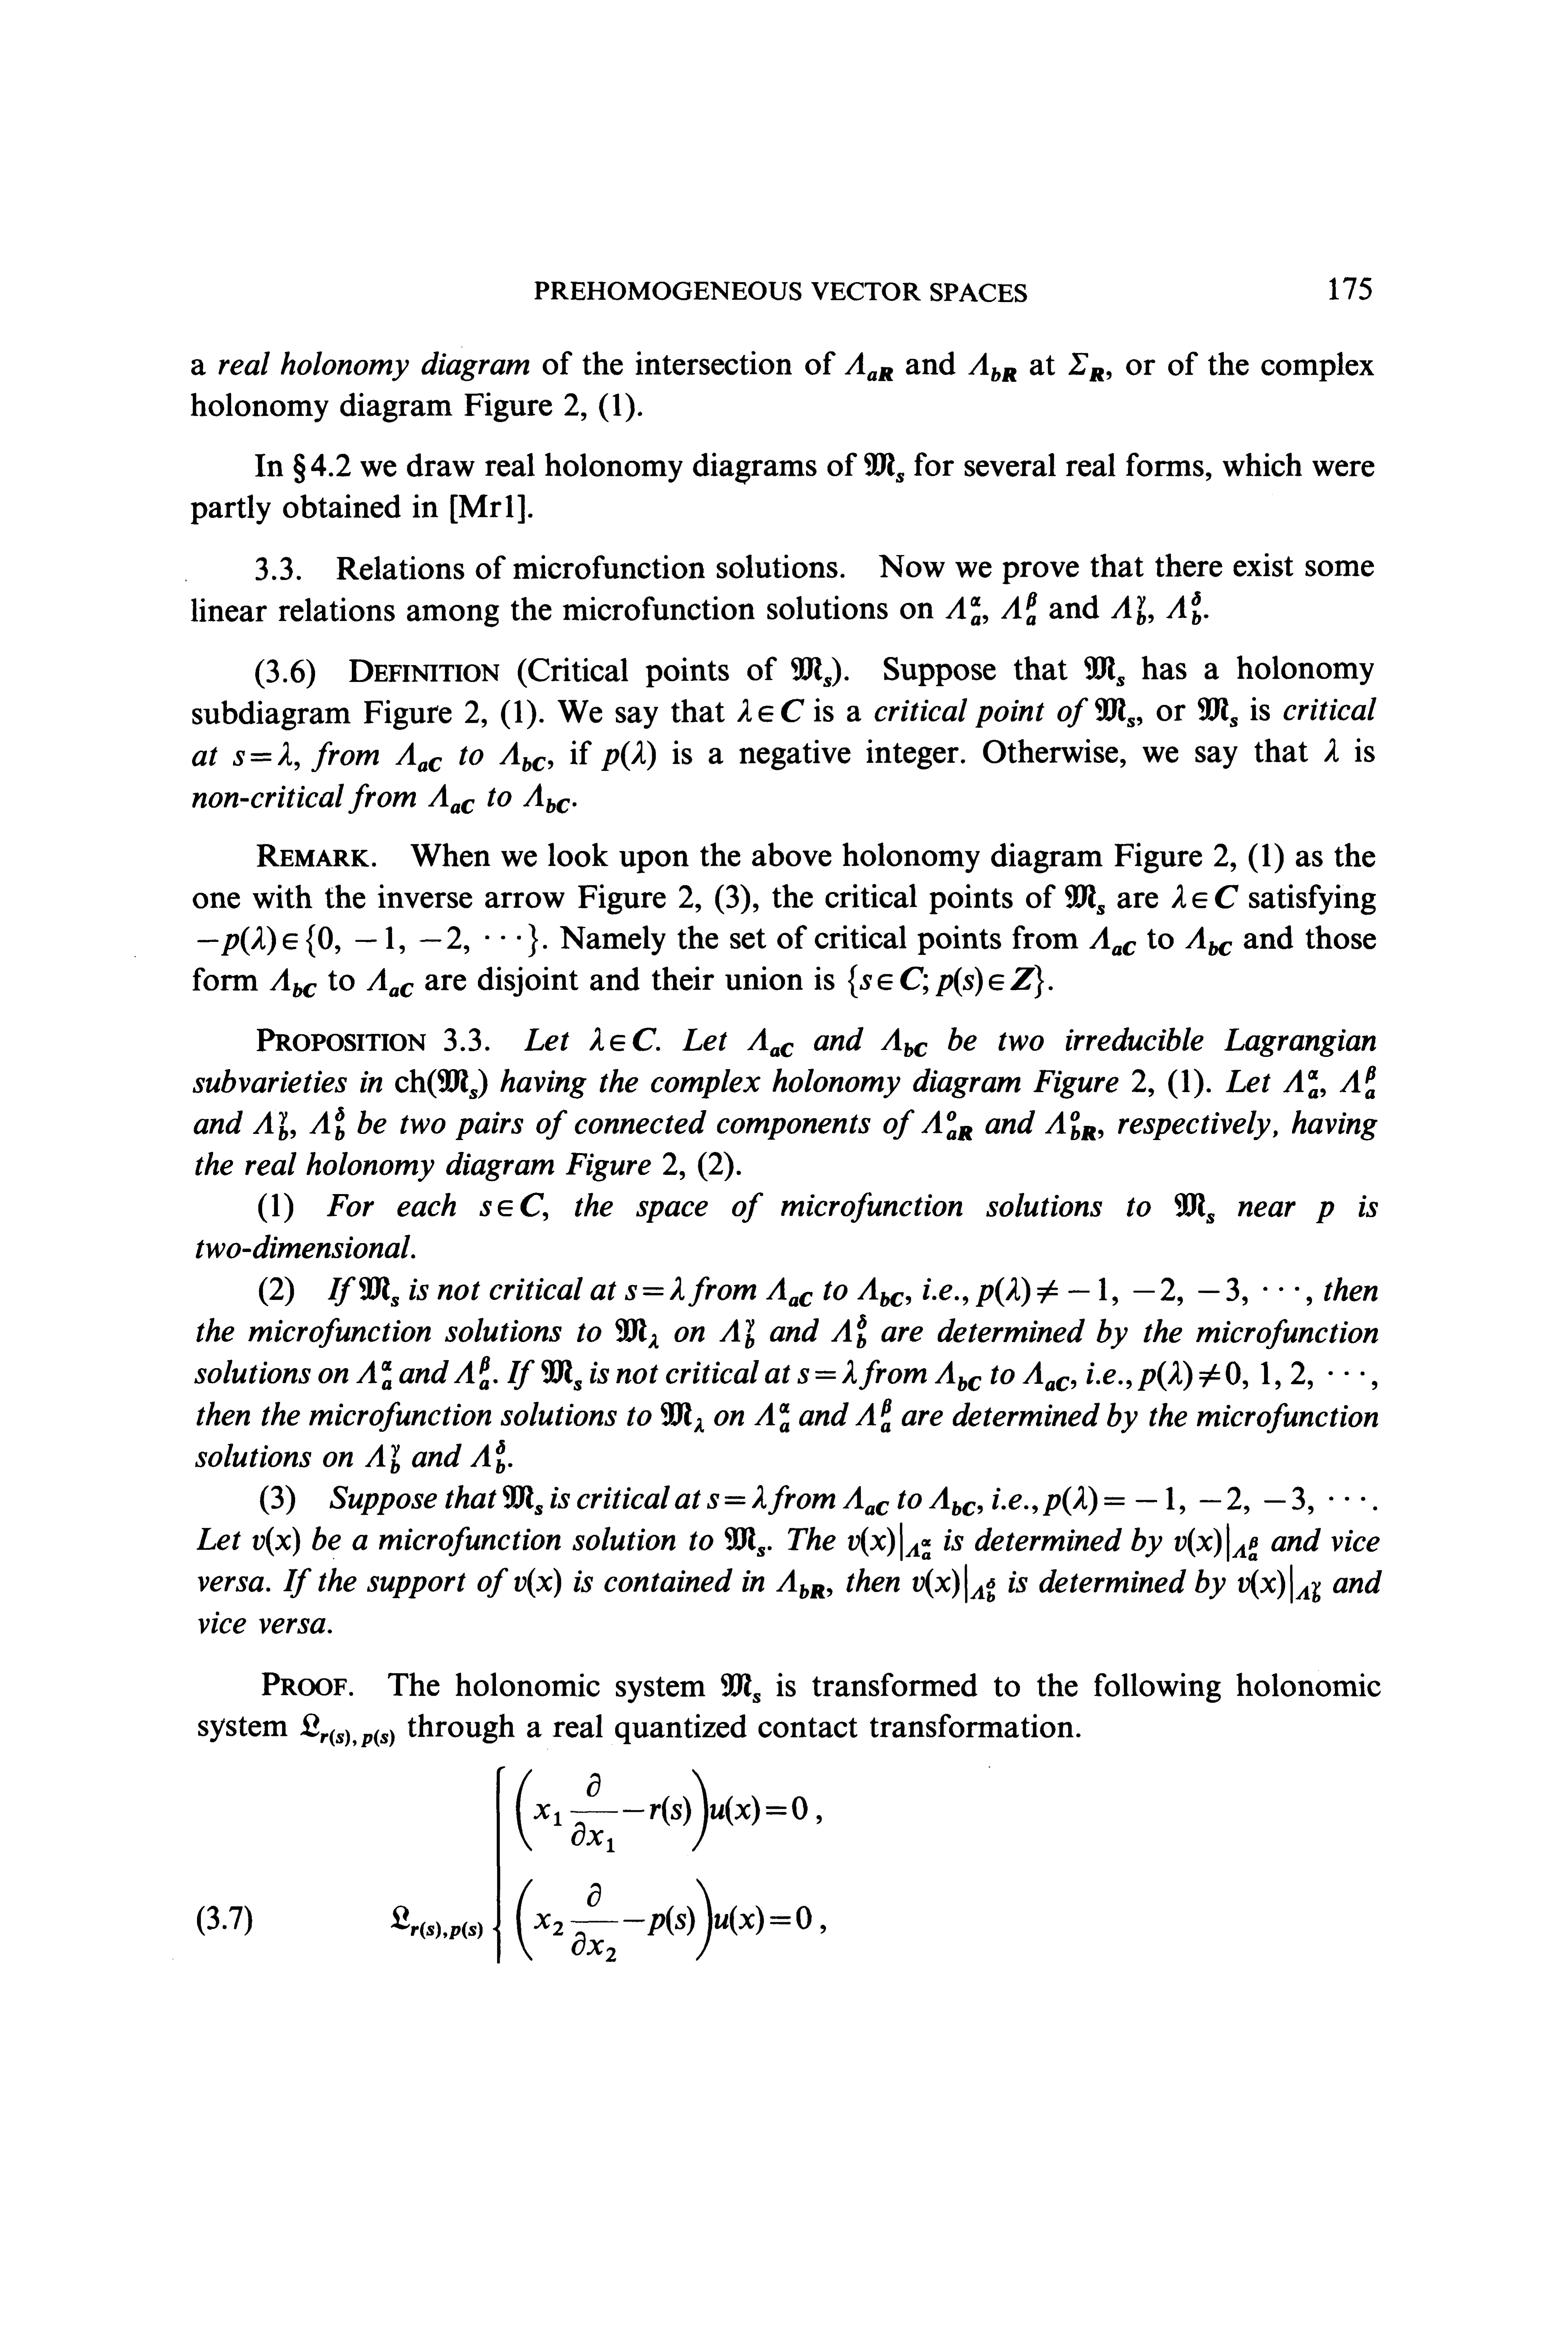maths: (390, 1766, 821, 1964), (198, 924, 537, 957), (976, 1276, 1298, 1306), (1043, 1486, 1365, 1516), (1137, 1360, 1365, 1390), (849, 964, 1043, 998), (913, 1563, 996, 1603), (1174, 1523, 1258, 1561), (1237, 1565, 1321, 1603), (849, 1523, 931, 1560), (301, 1714, 388, 1747), (395, 1069, 486, 1099), (486, 1568, 562, 1598), (430, 1357, 490, 1390), (334, 1276, 399, 1306), (922, 1110, 973, 1141), (1172, 884, 1237, 908), (602, 740, 654, 770), (479, 1192, 542, 1217), (737, 698, 803, 721), (590, 1027, 656, 1050), (968, 352, 1017, 382), (625, 1276, 684, 1301), (707, 1484, 766, 1509), (1045, 1111, 1095, 1139), (1185, 926, 1232, 956), (269, 968, 317, 998), (1095, 698, 1143, 728), (499, 742, 546, 772), (880, 1027, 927, 1057), (934, 1360, 982, 1390), (1022, 1362, 1069, 1392), (252, 1526, 299, 1556), (775, 1570, 824, 1598), (1090, 926, 1136, 956), (367, 968, 413, 998), (233, 742, 292, 765), (395, 742, 441, 772), (429, 784, 474, 814), (523, 784, 569, 814), (747, 1027, 793, 1057), (798, 1360, 857, 1383), (843, 1486, 889, 1516), (929, 1486, 975, 1516), (1167, 592, 1207, 625), (845, 352, 892, 380), (614, 1318, 658, 1348), (660, 1402, 703, 1432), (766, 1278, 812, 1306), (857, 1278, 903, 1306), (1069, 352, 1111, 382), (1111, 595, 1153, 625), (1001, 592, 1038, 625), (1339, 1066, 1375, 1099), (1066, 884, 1104, 915), (791, 656, 831, 686), (1197, 697, 1237, 726), (1174, 1194, 1214, 1224), (541, 1360, 581, 1390), (502, 1484, 542, 1514), (724, 1526, 765, 1556), (310, 1106, 345, 1139), (831, 1315, 866, 1348), (856, 1399, 891, 1432), (1085, 656, 1123, 686), (721, 1673, 759, 1703), (864, 453, 905, 481), (471, 1441, 504, 1474), (357, 1360, 392, 1390), (754, 1402, 789, 1432), (364, 1444, 399, 1474), (945, 597, 980, 625), (1283, 1069, 1318, 1097), (719, 1320, 754, 1348), (254, 1111, 287, 1139), (1316, 1201, 1333, 1224), (1325, 739, 1339, 761)
